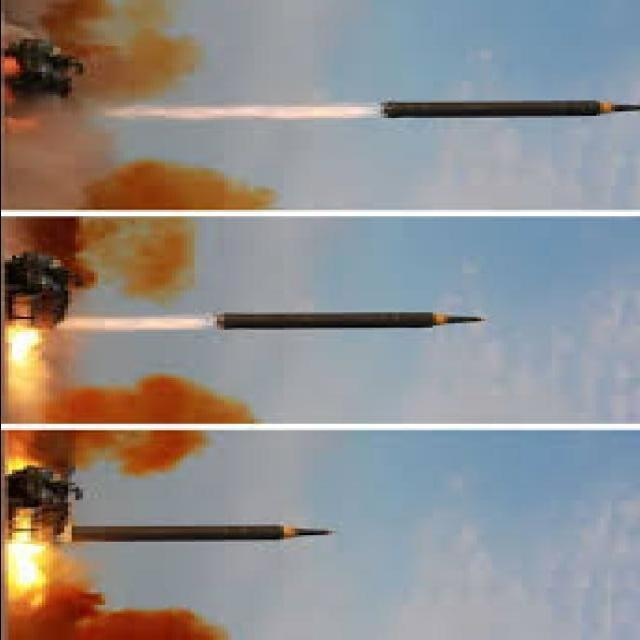missile: (48, 518, 336, 546), (216, 308, 492, 337), (384, 95, 640, 122)
